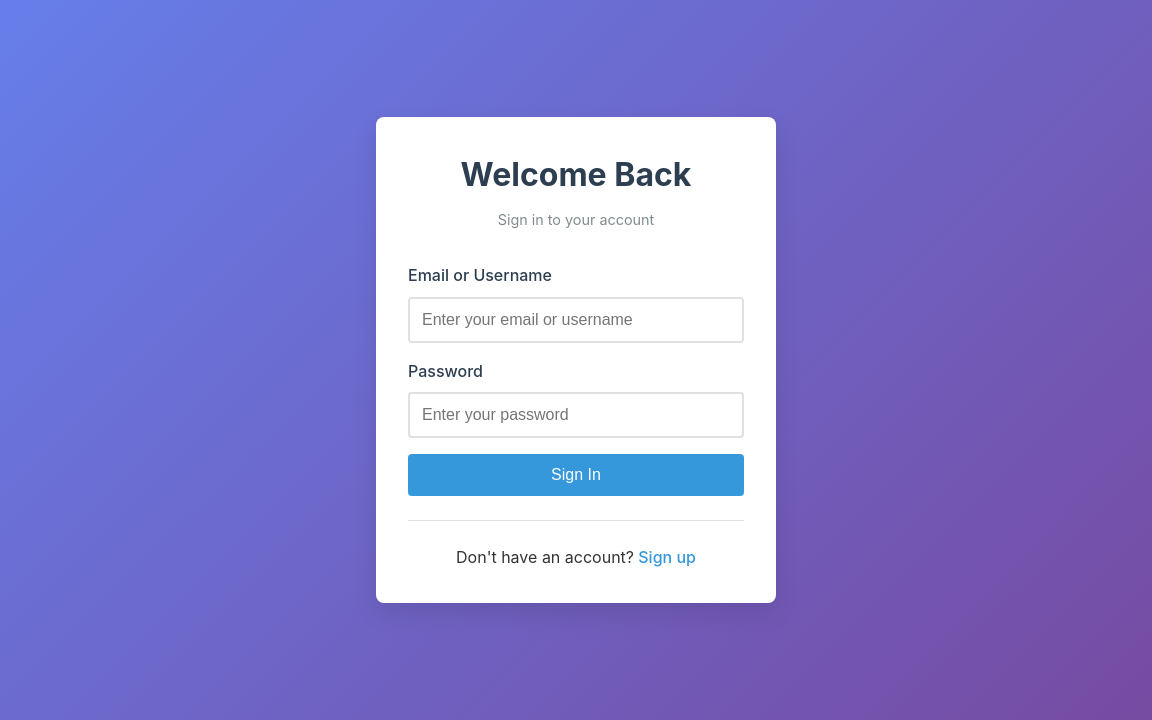
Test: Login Page › displays error message on login failure
Type "test@example.com" into the field labelled "Email or Username".
click(576, 320); type("test@example.com")  # box [408, 297, 744, 343]
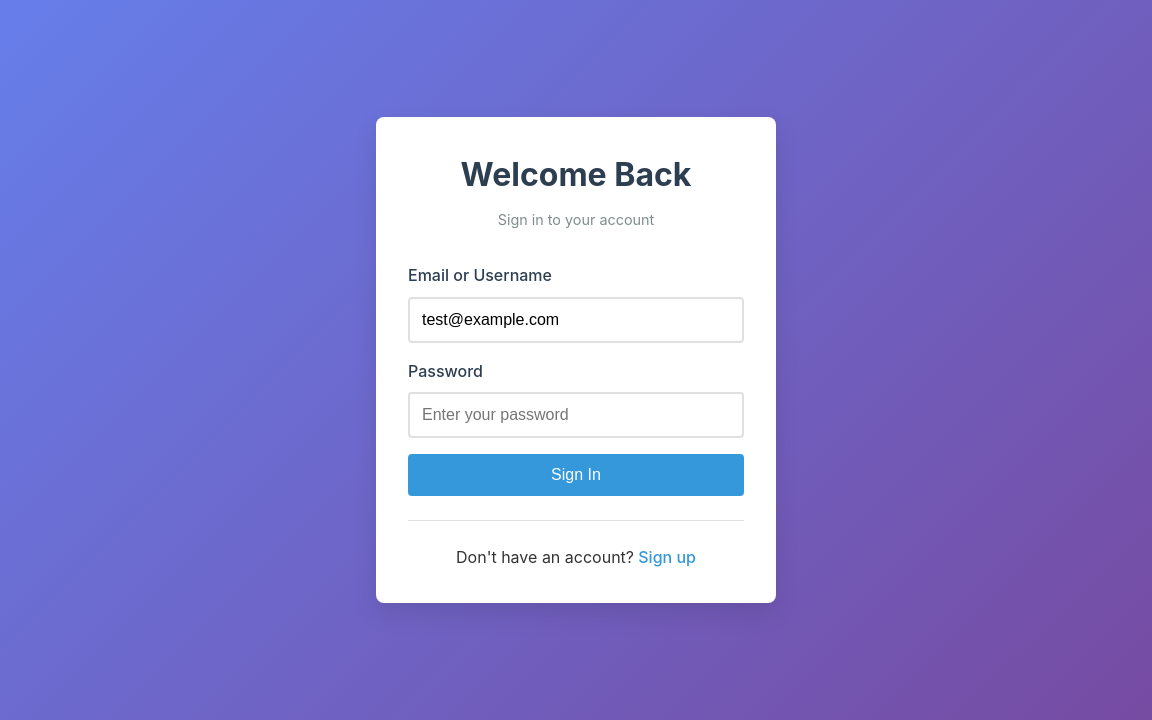
Type "wrongpassword" into the password field labelled "Password".
click(576, 415); type("wrongpassword")  # box [408, 392, 744, 438]
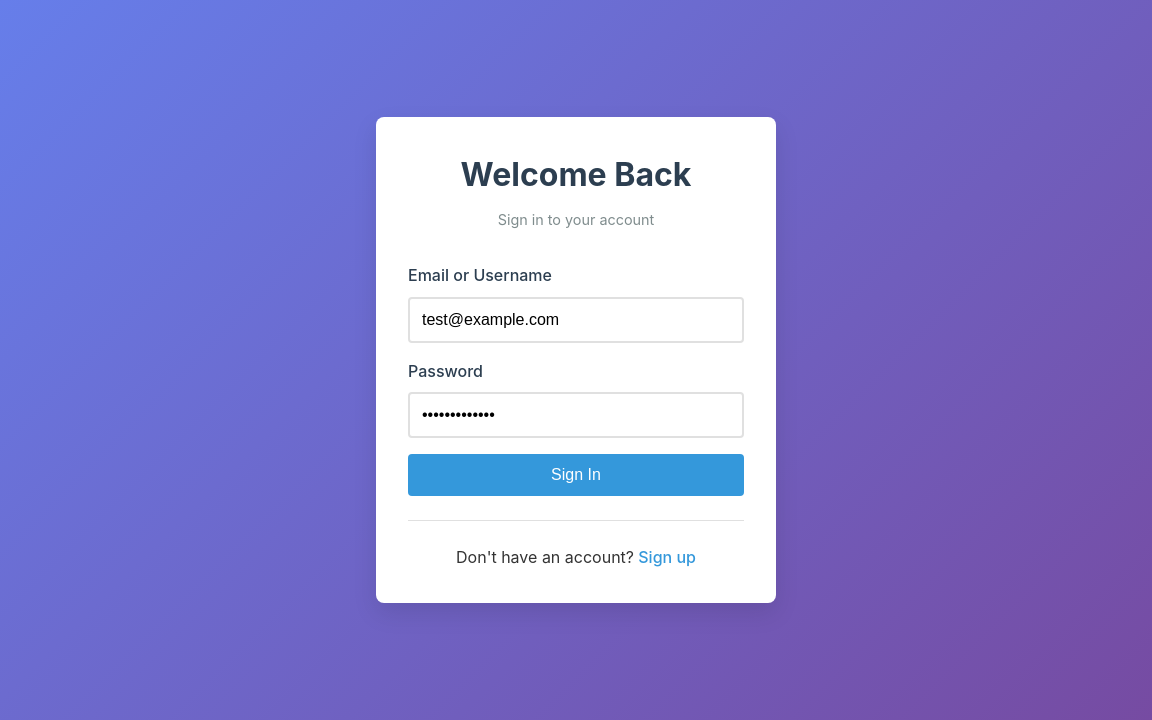
Click the button "Sign In".
click(576, 475)  # box [408, 454, 744, 496]
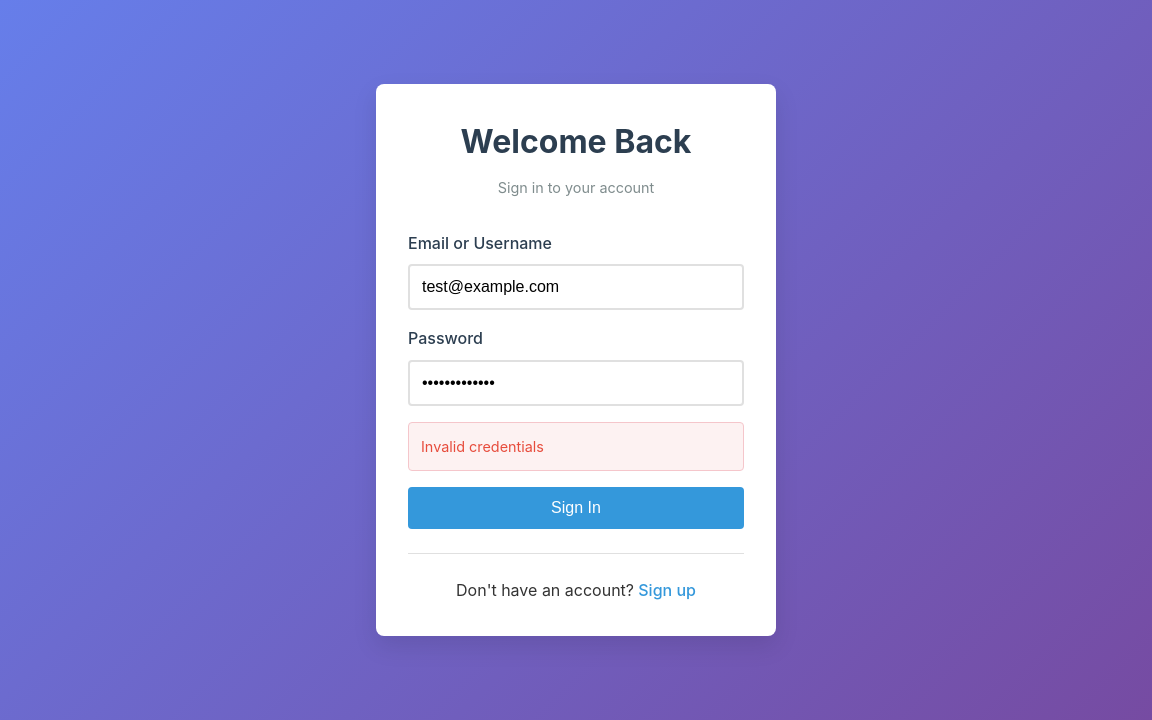
expect the text "Invalid credentials" is shown: met, box [408, 422, 744, 471]
